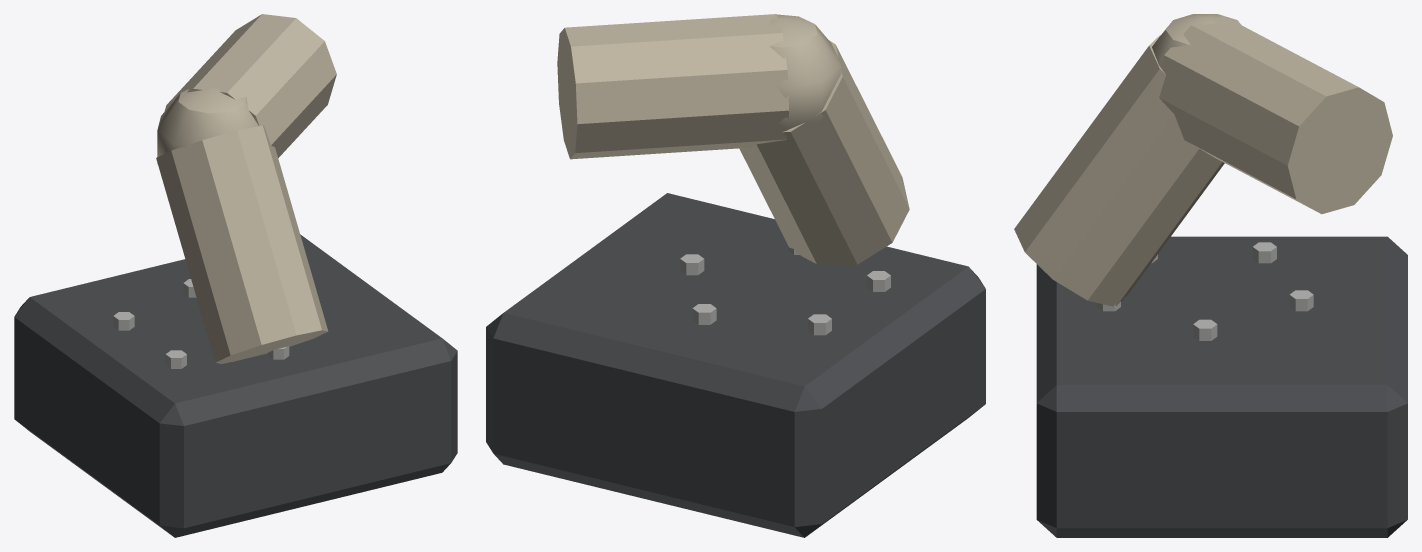
File: cargo-bay-inner-nw.glb
3 renders of one model, left to right at view 1: azimuth 30°, elevation 25°; view 2: azimuth 150°, elevation 25°; view 3: azimuth 270°, elevation 25°, orthographic. The views are drawn at different scales.
Parts seen in each view (by area): view 1: body; view 2: body; view 3: body.
Boxes of the visible parts, x1,y1,x2,y2 form: body: [14, 14, 457, 537]; body: [486, 14, 985, 537]; body: [1014, 14, 1407, 537].
Bounding box in the file's own units: 0.58 × 0.7 × 0.5832.
